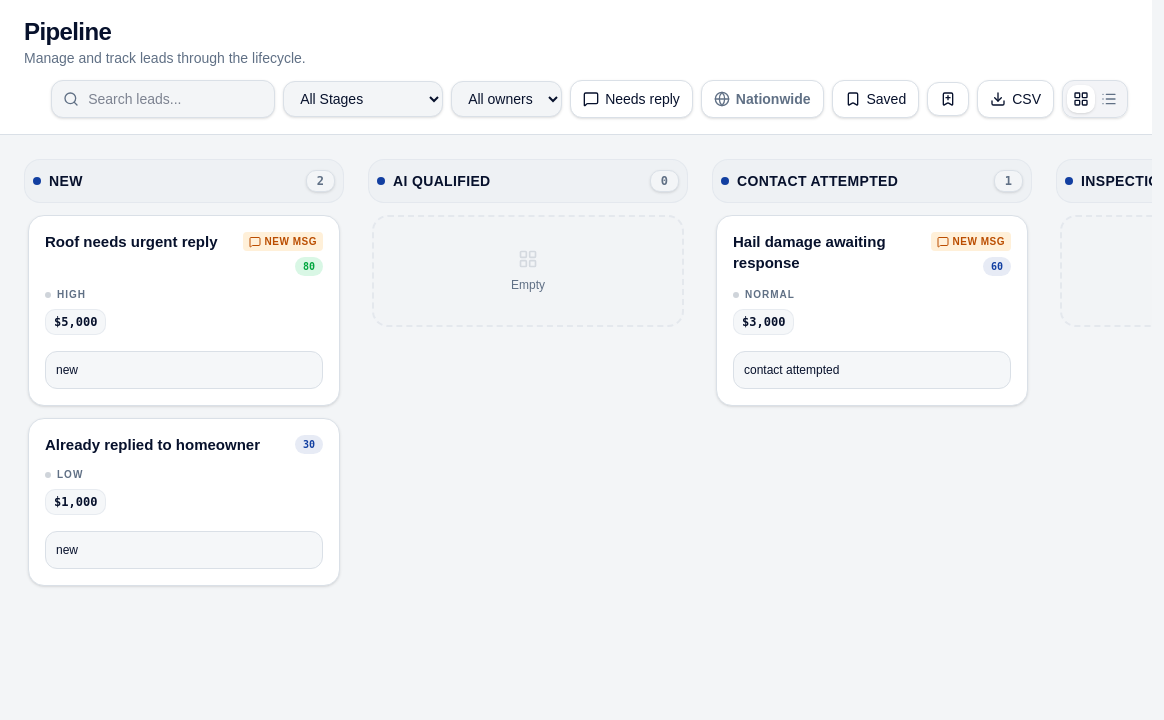
it: Pipeline "Needs reply" filter › table view › hides leads without unread messages in table view after toggling ON
Expected: the link "Roof needs urgent reply" is shown, [45,232,218,253]
Note: Switch to table view
Click the button with test id "view-table-button": (1109, 99) [1095,85,1123,113]
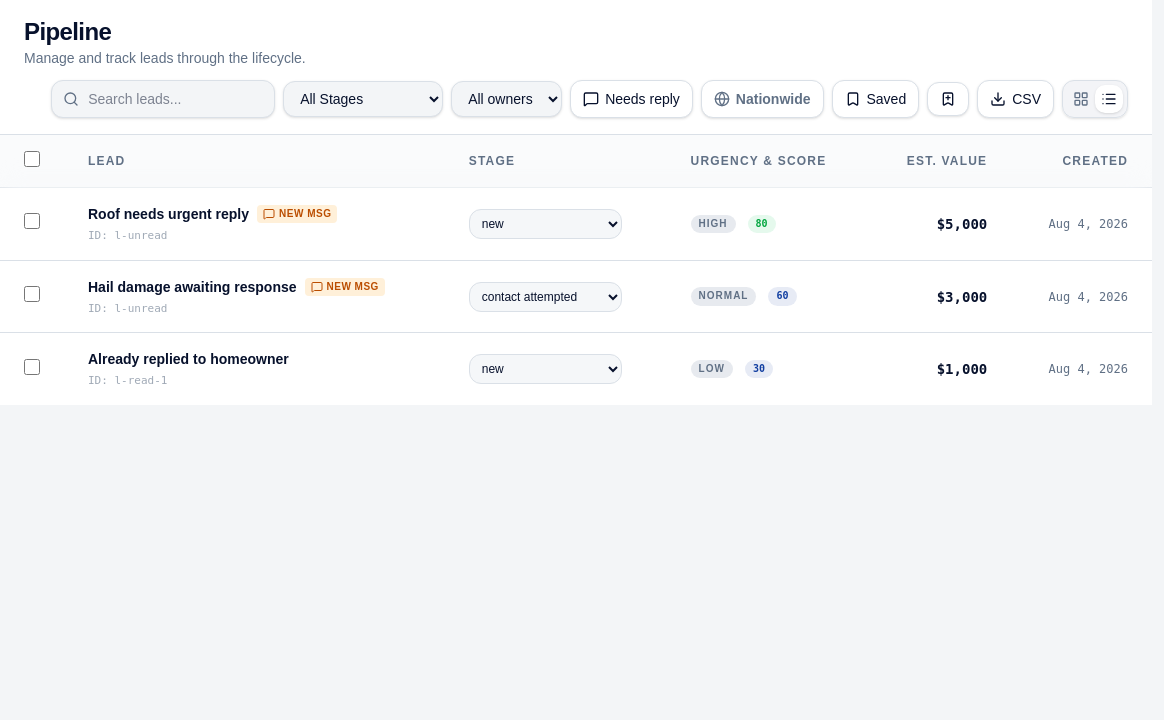
Click the button with test id "needs-reply-filter": (631, 99) [570,80,693,118]
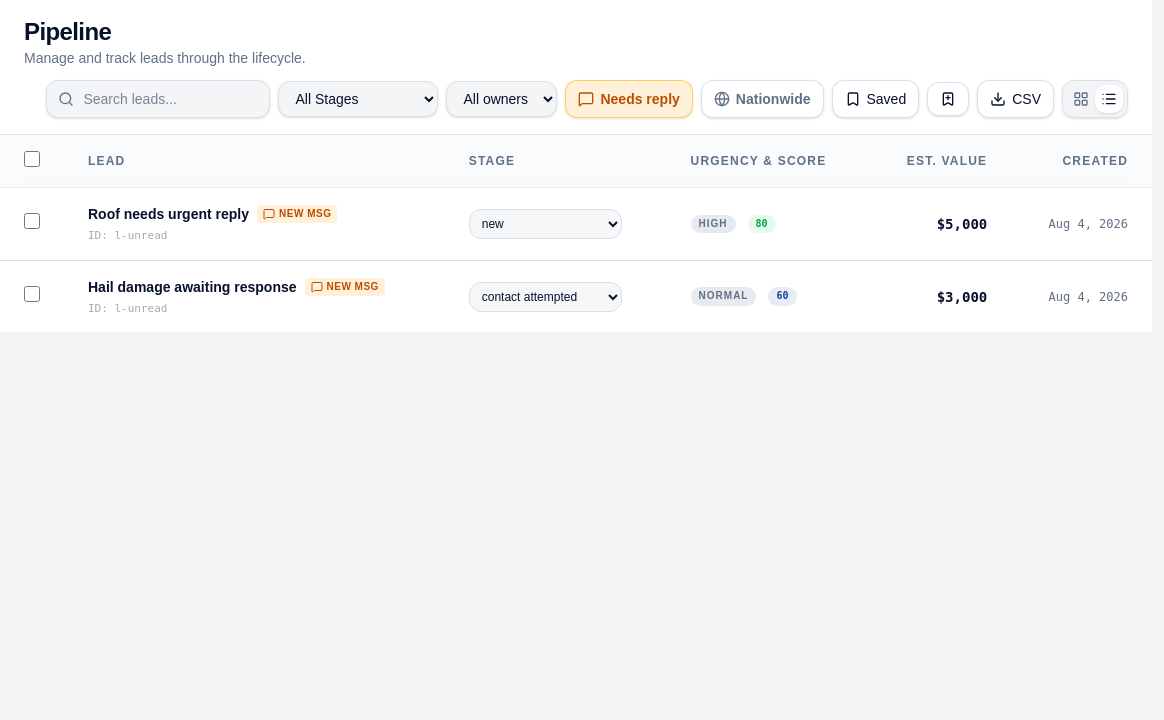
Expected: no links "Already replied to homeowner" are shown
